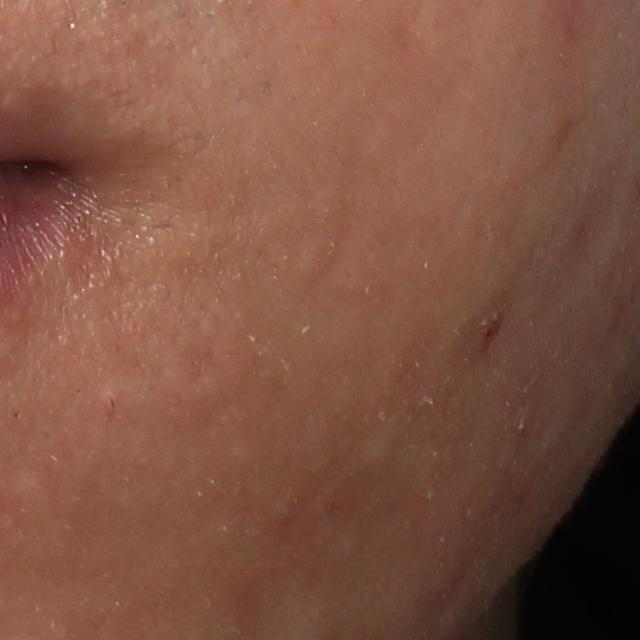comedo: (99, 388, 123, 414)
hypertrophic_scar: (284, 221, 373, 307), (355, 415, 408, 482), (7, 459, 56, 525)
